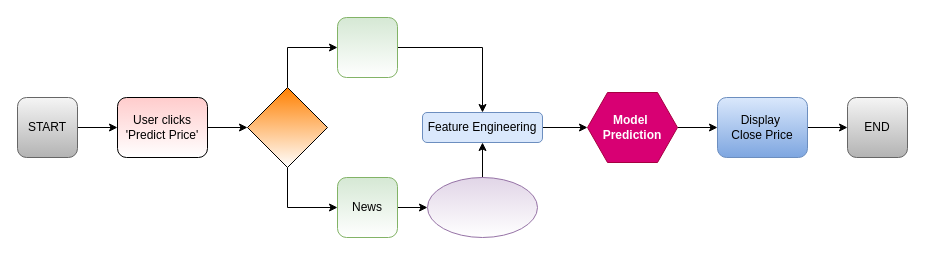
Some shapes in this 925 by 255 pixel diagram are drawn without their labels. The shapes that lost their labels are listed below. From the top down, each one's centre as x and y in pixels, then its label:
At point (367, 47): "NSE".
At point (287, 127): "Web Scraping".
At point (482, 207): "Sentiment Analysis".
